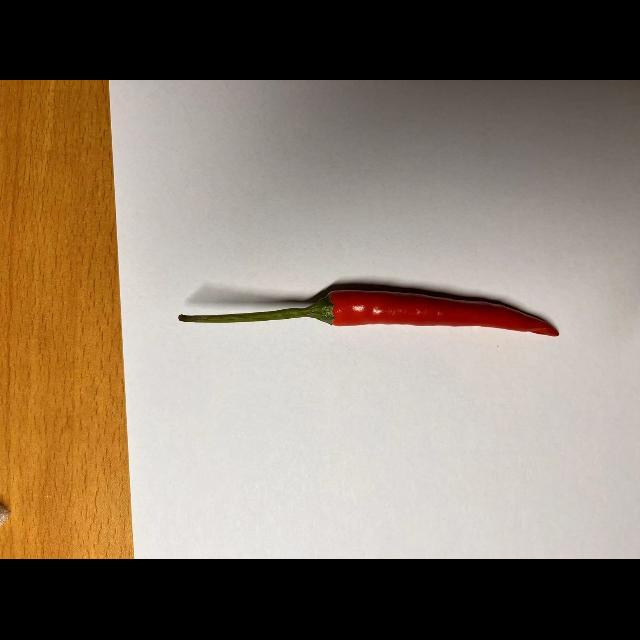chili_pepper: (172, 277, 564, 346)
